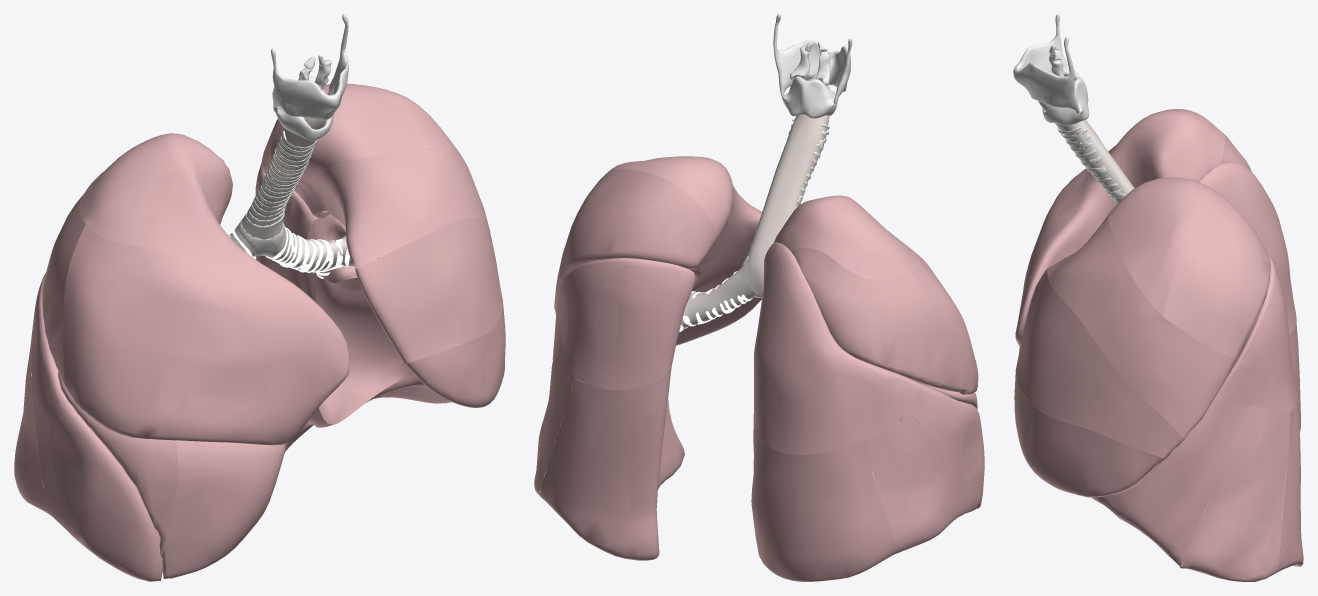
The model's file is respiratory.glb.
3 renders of one model, left to right at view 1: azimuth 30°, elevation 25°; view 2: azimuth 150°, elevation 25°; view 3: azimuth 270°, elevation 25°, orthographic. The views are drawn at different scales.
Visible parts, largest first — view 1: right-anterior-bronchopulmonary-segment, right-anterior-basal-bronchopulmonary-segment, superior-lingular-bronchopulmonary-segment, right-apical-bronchopulmonary-segment, left-anterior-bronchopulmonary-segment, right-medial-bronchopulmonary-segment, left-apical-bronchopulmonary-segment, left-medial-basal-bronchopulmonary-segment, inferior-lingular-bronchopulmonary-segment, right-lateral-bronchopulmonary-segment, right-posterior-bronchopulmonary-segment, thyroid-cartilage (+13 smaller); view 2: right-superior-bronchopulmonary-segment, left-posterior-basal-bronchopulmonary-segment, right-posterior-basal-bronchopulmonary-segment, left-superior-bronchopulmonary-segment, right-posterior-bronchopulmonary-segment, left-posterior-bronchopulmonary-segment, right-lateral-basal-bronchopulmonary-segment, right-apical-bronchopulmonary-segment, right-anterior-basal-bronchopulmonary-segment, f-trachea, left-apical-bronchopulmonary-segment, right-anterior-bronchopulmonary-segment (+8 smaller); view 3: left-anterior-bronchopulmonary-segment, superior-lingular-bronchopulmonary-segment, left-lateral-basal-bronchopulmonary-segment, left-posterior-bronchopulmonary-segment, left-anterior-basal-bronchopulmonary-segment, inferior-lingular-bronchopulmonary-segment, left-apical-bronchopulmonary-segment, right-apical-bronchopulmonary-segment, left-superior-bronchopulmonary-segment, right-anterior-bronchopulmonary-segment, right-superior-bronchopulmonary-segment, thyroid-cartilage (+6 smaller).
Part boxes in pixels (x1,y1,x2,y2): right-anterior-bronchopulmonary-segment: (63,224,349,445); right-anterior-basal-bronchopulmonary-segment: (31,328,162,581); superior-lingular-bronchopulmonary-segment: (355,217,503,363); right-apical-bronchopulmonary-segment: (79,133,232,257); left-anterior-bronchopulmonary-segment: (320,146,489,268); right-medial-bronchopulmonary-segment: (160,440,285,578); left-apical-bronchopulmonary-segment: (270,83,457,211); left-medial-basal-bronchopulmonary-segment: (316,276,414,424); inferior-lingular-bronchopulmonary-segment: (405,304,505,407); right-lateral-bronchopulmonary-segment: (58,371,178,555); right-posterior-bronchopulmonary-segment: (42,195,85,386); thyroid-cartilage: (271,14,348,120); right-superior-bronchopulmonary-segment: (754,242,919,454); left-posterior-basal-bronchopulmonary-segment: (540,365,684,560); right-posterior-basal-bronchopulmonary-segment: (751,414,895,581); left-superior-bronchopulmonary-segment: (557,258,695,390); right-posterior-bronchopulmonary-segment: (791,247,962,392); left-posterior-bronchopulmonary-segment: (560,169,717,280); right-lateral-basal-bronchopulmonary-segment: (866,412,957,554); right-apical-bronchopulmonary-segment: (773,195,919,280); right-anterior-basal-bronchopulmonary-segment: (909,383,984,517); f-trachea: (744,85,829,297); left-apical-bronchopulmonary-segment: (606,156,733,238); right-anterior-bronchopulmonary-segment: (910,251,978,394); left-anterior-bronchopulmonary-segment: (1047,215,1237,439); superior-lingular-bronchopulmonary-segment: (1015,269,1184,458); left-lateral-basal-bronchopulmonary-segment: (1180,405,1290,581); left-posterior-bronchopulmonary-segment: (1163,188,1270,358); left-anterior-basal-bronchopulmonary-segment: (1091,400,1245,567); inferior-lingular-bronchopulmonary-segment: (1014,371,1165,497); left-apical-bronchopulmonary-segment: (1108,177,1212,316); right-apical-bronchopulmonary-segment: (1083,109,1225,187); left-superior-bronchopulmonary-segment: (1213,256,1297,412); right-anterior-bronchopulmonary-segment: (1015,168,1116,347); right-superior-bronchopulmonary-segment: (1199,162,1296,335); thyroid-cartilage: (1013,14,1079,113).
Bounding box in the file's own units: 0.2511 × 0.2951 × 0.1531.
